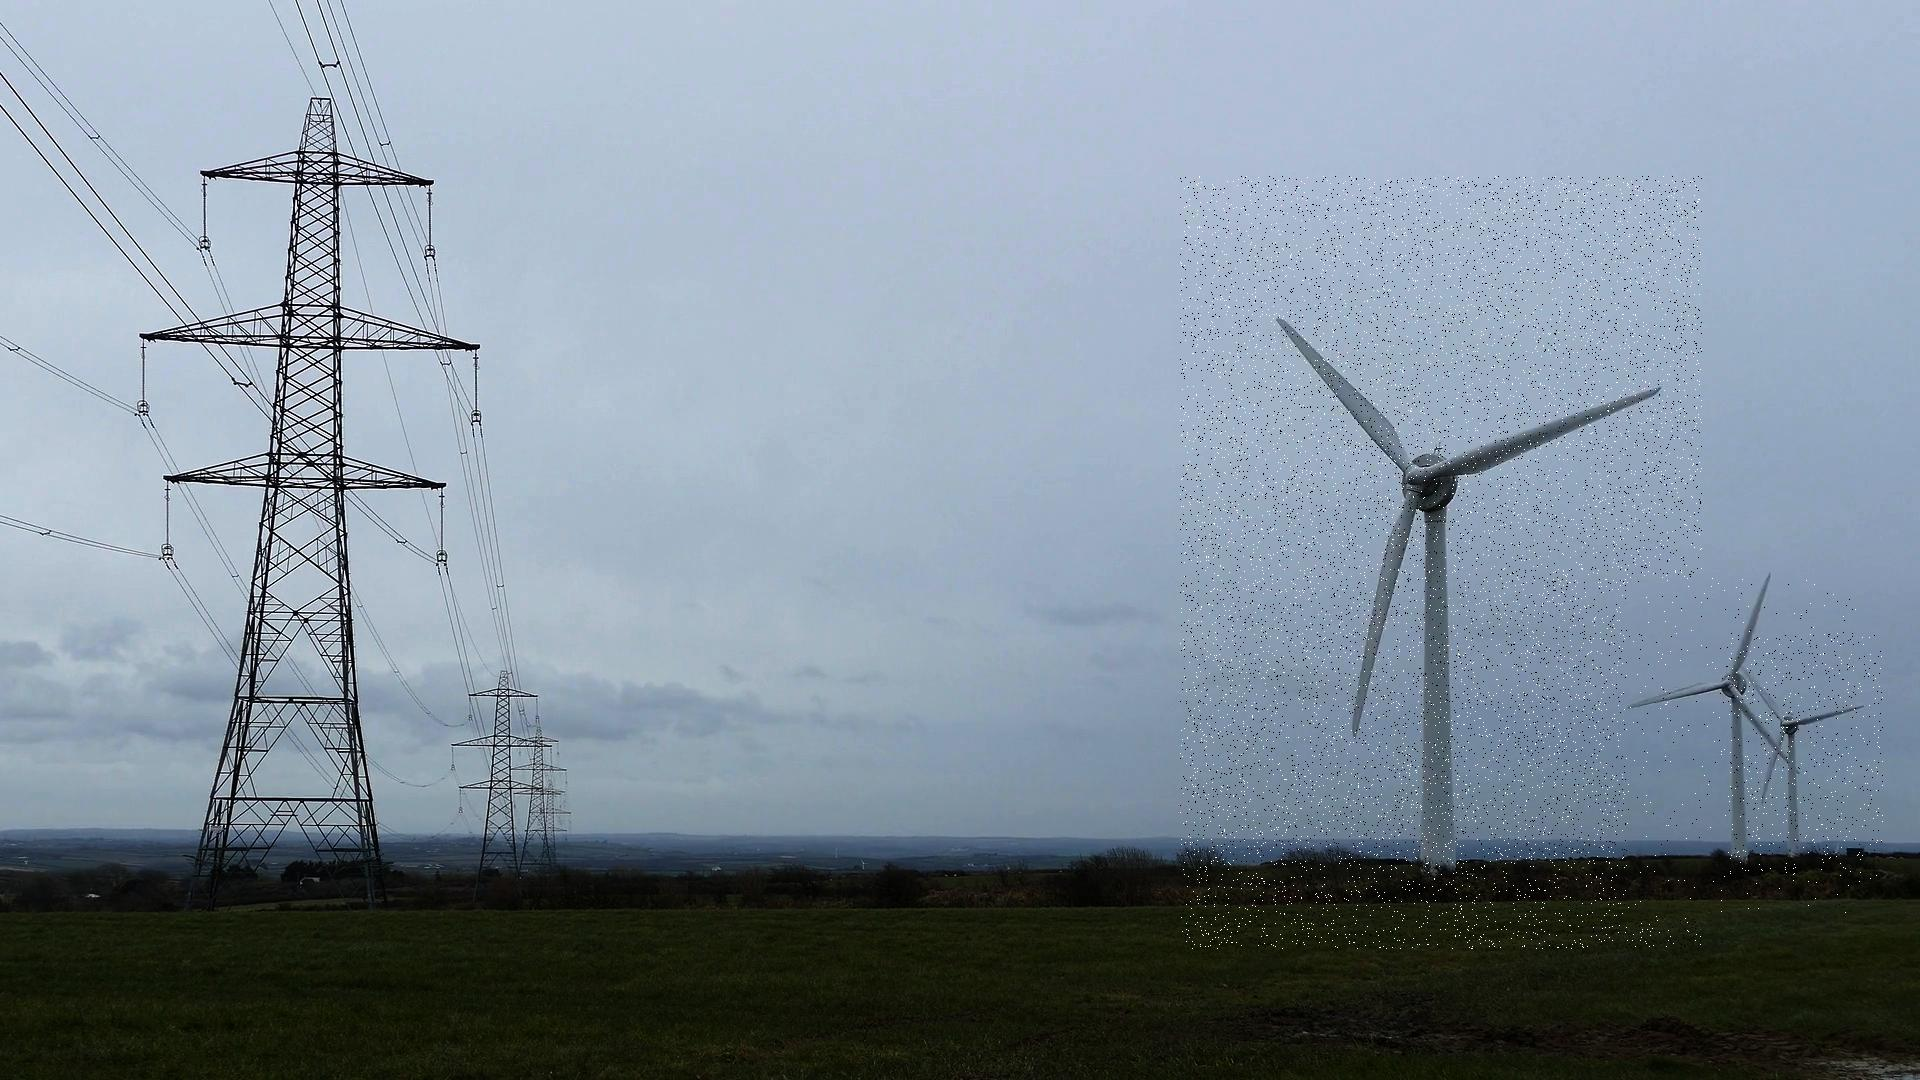cable tower: (137, 96, 483, 915), (451, 669, 553, 905), (509, 725, 566, 880), (530, 782, 571, 873)
turbine: (1180, 175, 1702, 949), (1627, 579, 1857, 918), (1727, 633, 1883, 887)
